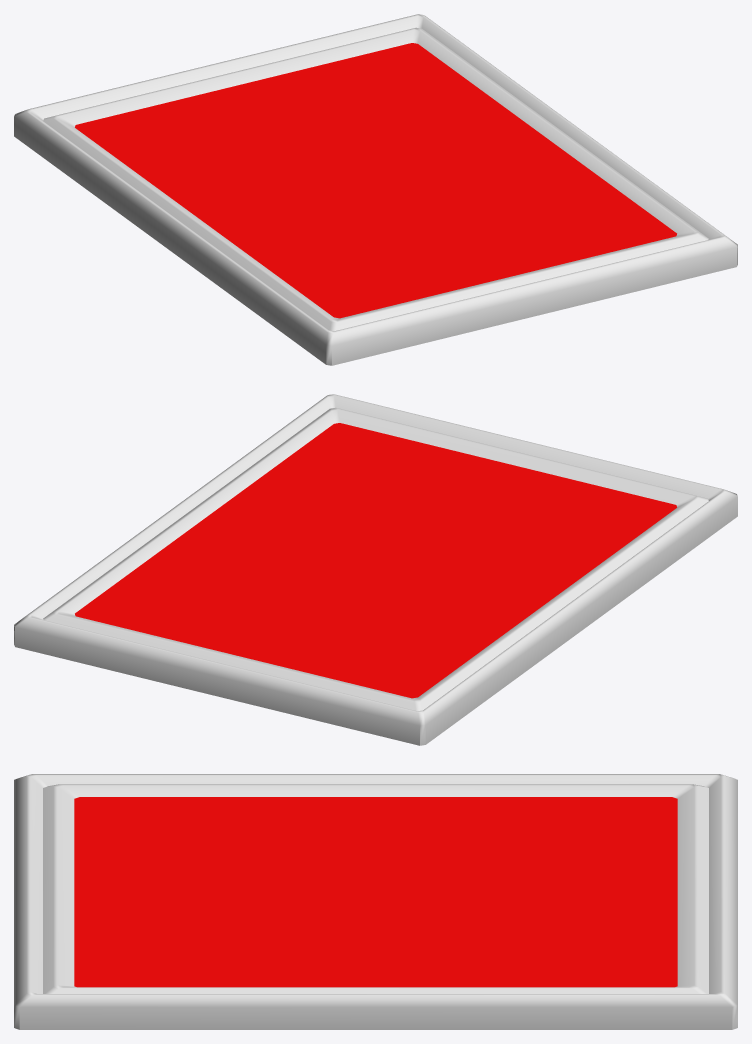
The model's file is PaintingA.fbx.
The picture shows the model from 3 angles, top to bottom: view 1: azimuth 30°, elevation 25°; view 2: azimuth 150°, elevation 25°; view 3: azimuth 270°, elevation 25°; orthographic projection. The views are drawn at different scales.
Visible parts, largest first — view 1: PaintingA; view 2: PaintingA; view 3: PaintingA.
Part boxes in pixels (x1,y1,x2,y2): PaintingA: (14, 14, 737, 365); PaintingA: (14, 394, 737, 745); PaintingA: (14, 774, 737, 1029).
Size of the model in its own units: 53.98 by 3.36 by 71.97.
